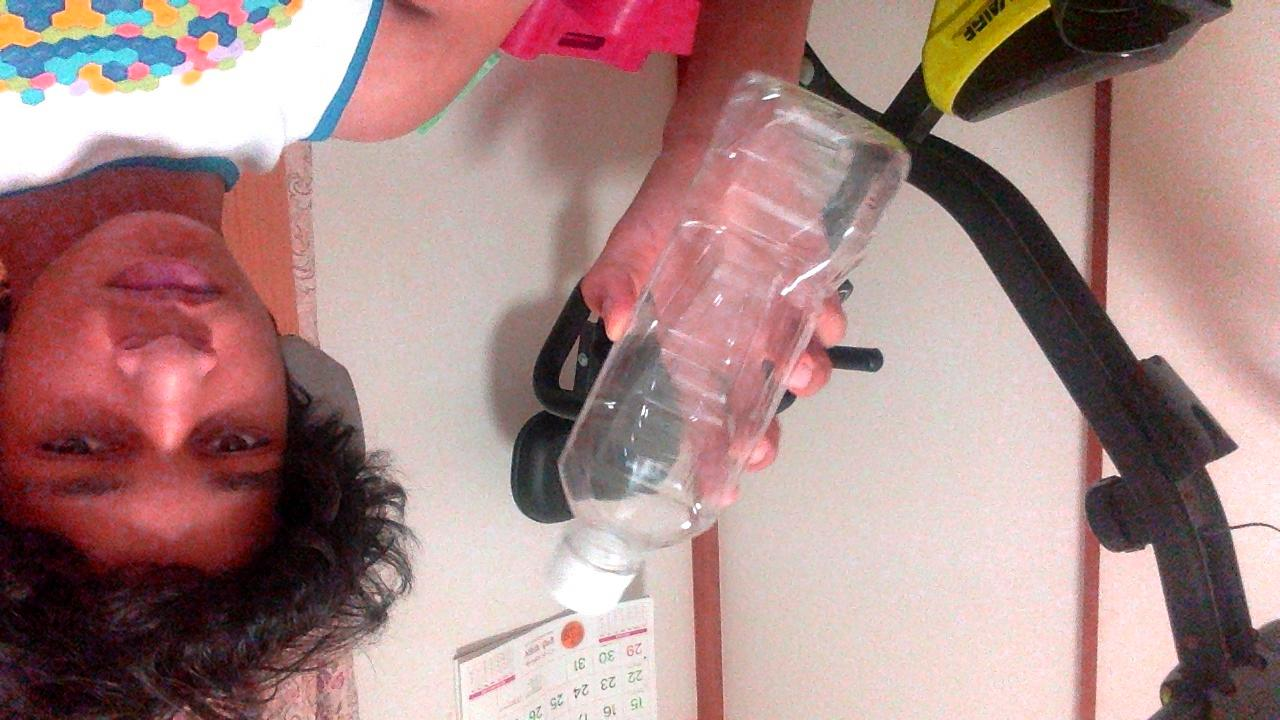Plastic: (539, 65, 918, 620)
